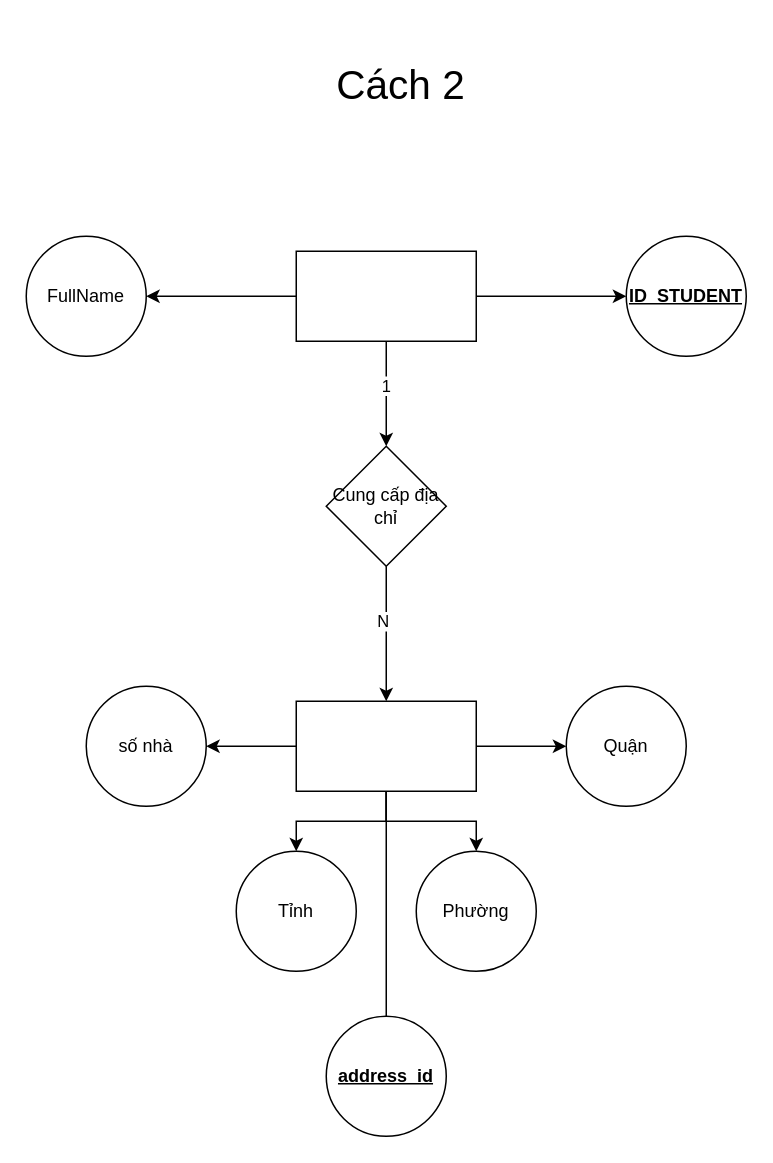
Some shapes in this 773 by 1163 pixel diagram are drawn without their labels. The shapes that lost their labels are listed below. From the top down, each one's centre as x and y in pixels, then its label:
At point 385,295: "STUDENTS".
At point 385,745: "Địa chỉ".
